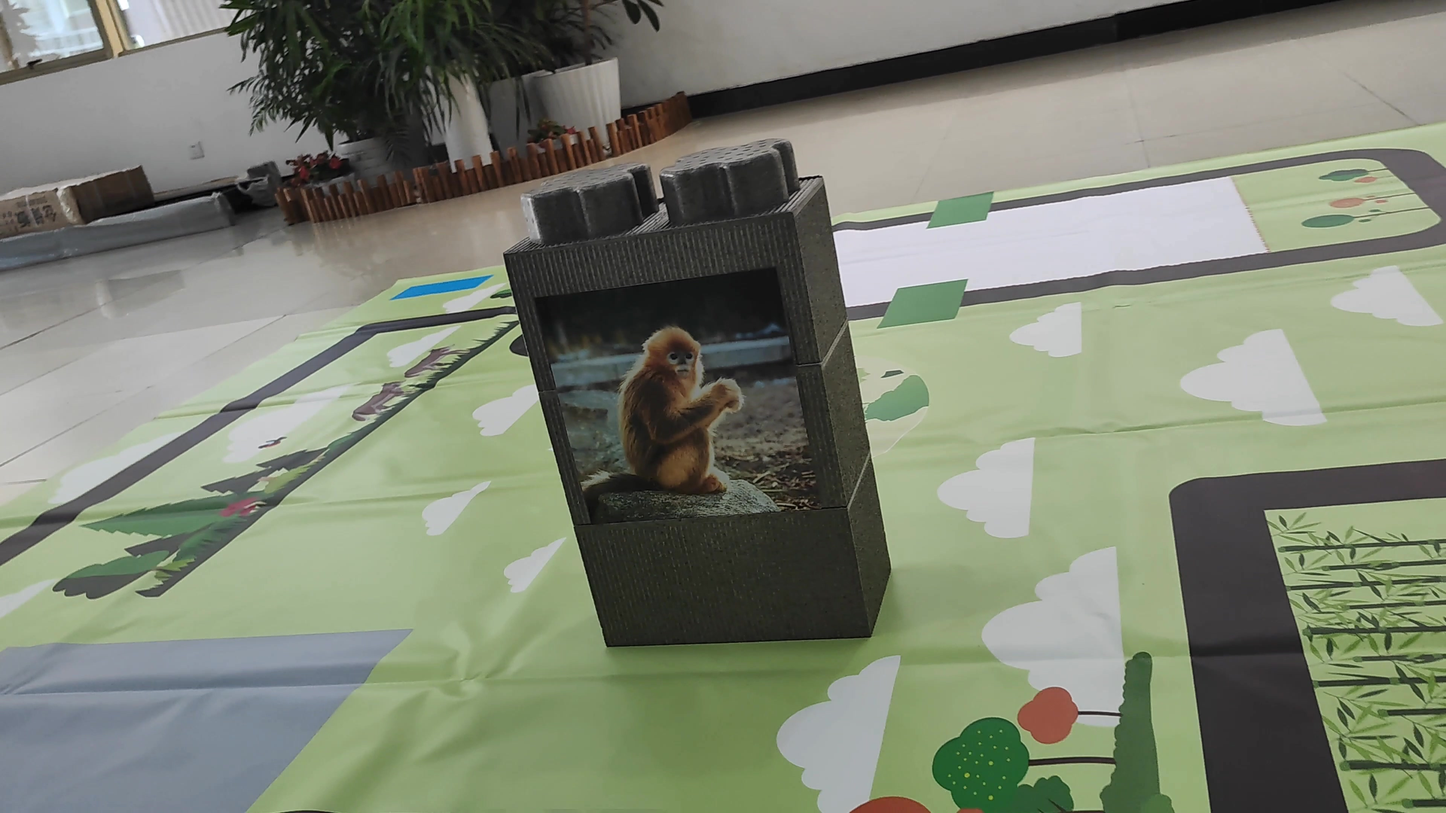monkey: (581, 303, 763, 514)
